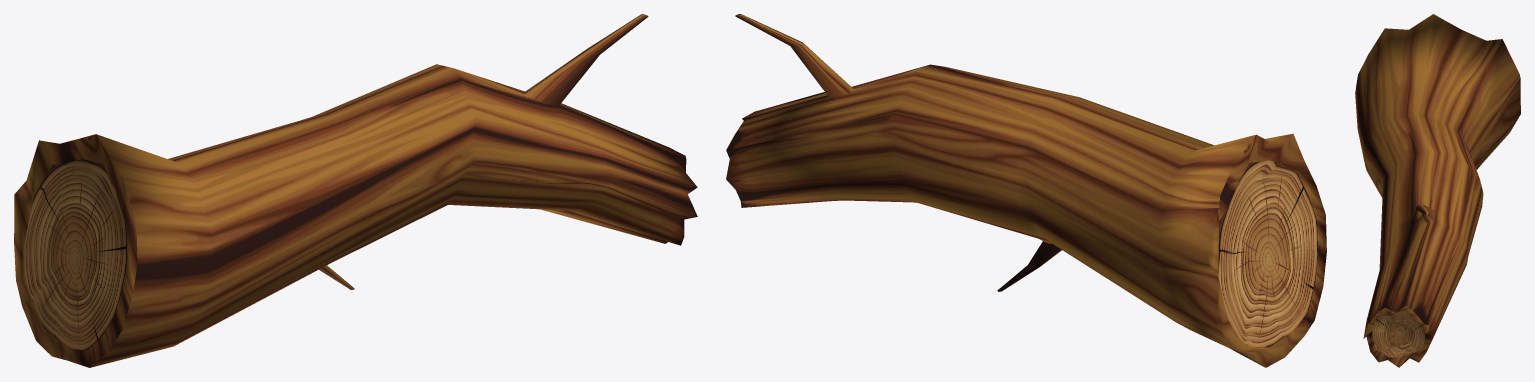
The model's file is TroncoBien(_).fbx.
3 renders of one model, left to right at view 1: azimuth 30°, elevation 25°; view 2: azimuth 150°, elevation 25°; view 3: azimuth 270°, elevation 25°, orthographic. The views are drawn at different scales.
Visible parts, largest first — view 1: Cylinder; view 2: Cylinder; view 3: Cylinder.
Boxes of the visible parts, box(x1,y1,x2,y2) form: Cylinder: box(14, 14, 697, 367); Cylinder: box(726, 14, 1326, 367); Cylinder: box(1355, 14, 1520, 367).
Bounding box in the file's own units: 330 × 118 × 109.
